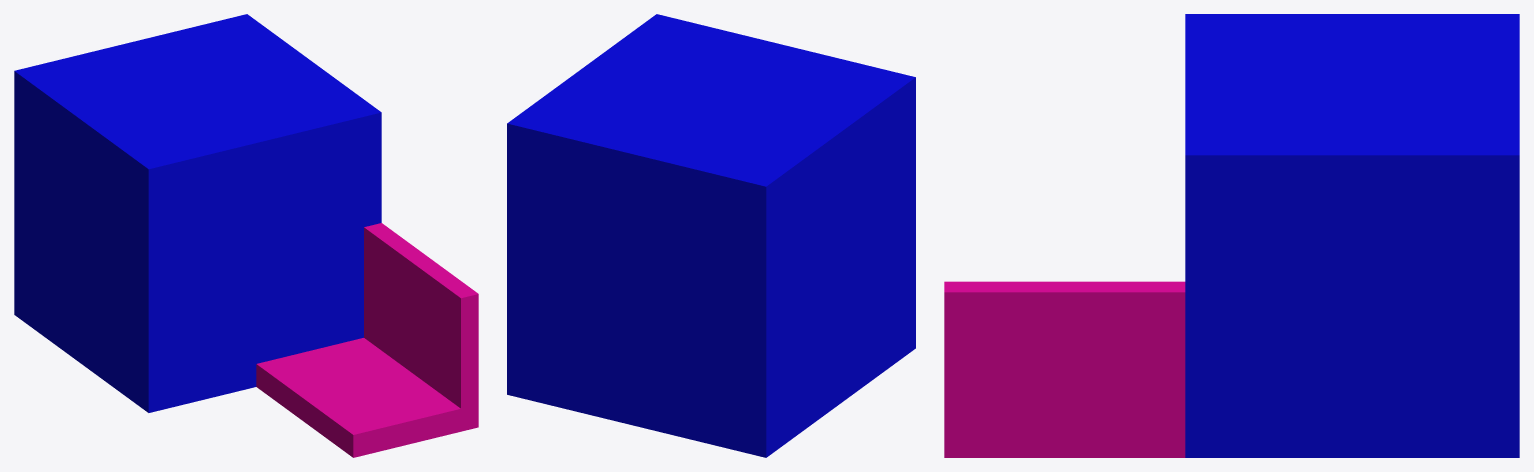
3 renders of one model, left to right at view 1: azimuth 30°, elevation 25°; view 2: azimuth 150°, elevation 25°; view 3: azimuth 270°, elevation 25°, orthographic. The views are drawn at different scales.
Visible parts, largest first — view 1: RP1.-1; view 2: RP1.-1; view 3: RP1.-1.
Boxes of the visible parts, <box> form: RP1.-1: <box>14,14,478,457</box>; RP1.-1: <box>507,14,915,457</box>; RP1.-1: <box>944,14,1519,457</box>.
Size of the model in its own units: 1 by 1 by 1.72.
